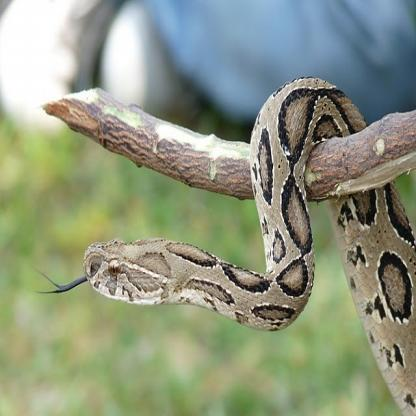Snake: (37, 72, 416, 403)
